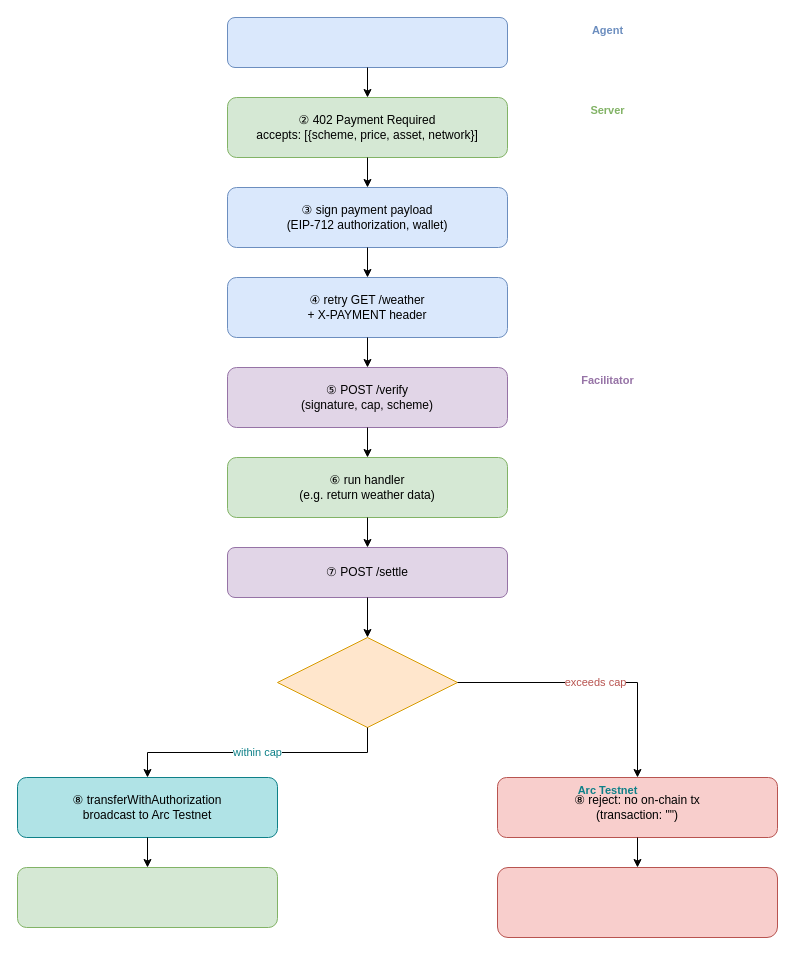
This 806x955 diagram has some shape labels left out. Here are the shapes that lost their labels. From the top down, the centre of each, then its label:
the point at 367,42: ① GET /weather (no payment)
the point at 367,682: requested amount ≤ signed cap?
the point at 147,897: ⑨ 200 OK + body + payment receipt (tx hash)
the point at 637,902: ⑨ 402 settle_failed invalid_upto_evm_payload_settlement_exceeds_amount
